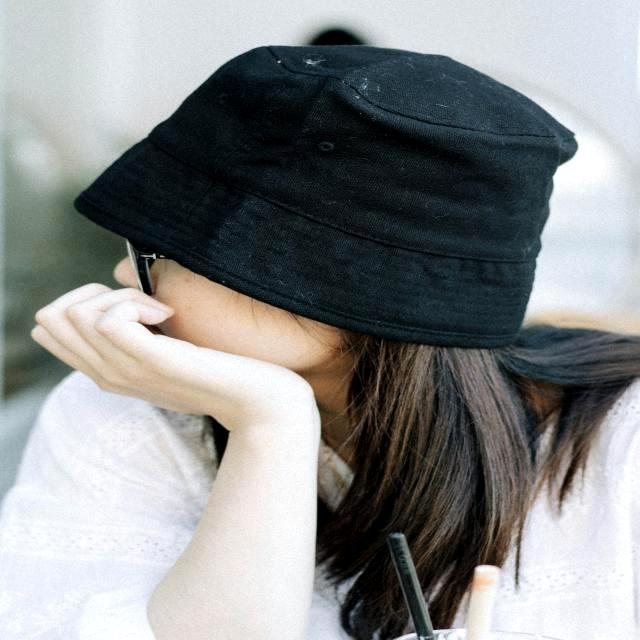no_hard_hat: (75, 46, 577, 348)
person: (0, 45, 640, 640)
